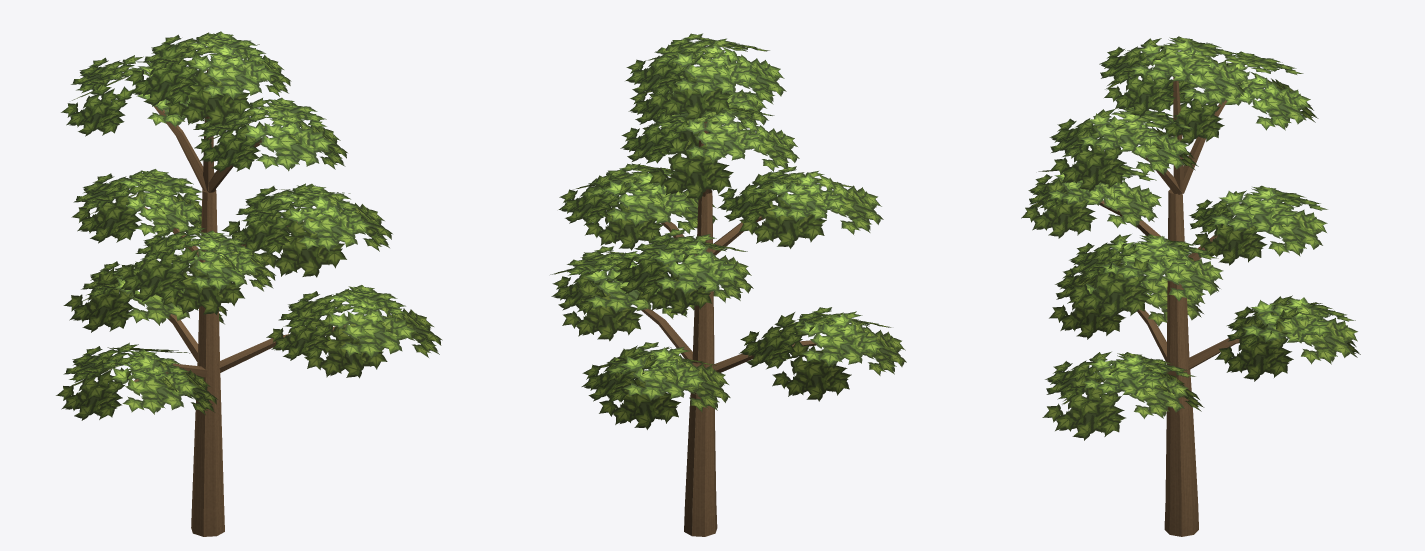
File: maple_a.glb
3 renders of one model, left to right at view 1: azimuth 30°, elevation 25°; view 2: azimuth 150°, elevation 25°; view 3: azimuth 270°, elevation 25°, orthographic.
Visible parts, largest first — view 1: maple_a; view 2: maple_a; view 3: maple_a.
Part boxes in pixels (x1,y1,x2,y2): maple_a: [56, 31, 442, 536]; maple_a: [550, 33, 906, 536]; maple_a: [1021, 36, 1360, 536].
Bounding box in the file's own units: 4.93 × 5.29 × 4.25.
2 materials, 2 textured.
